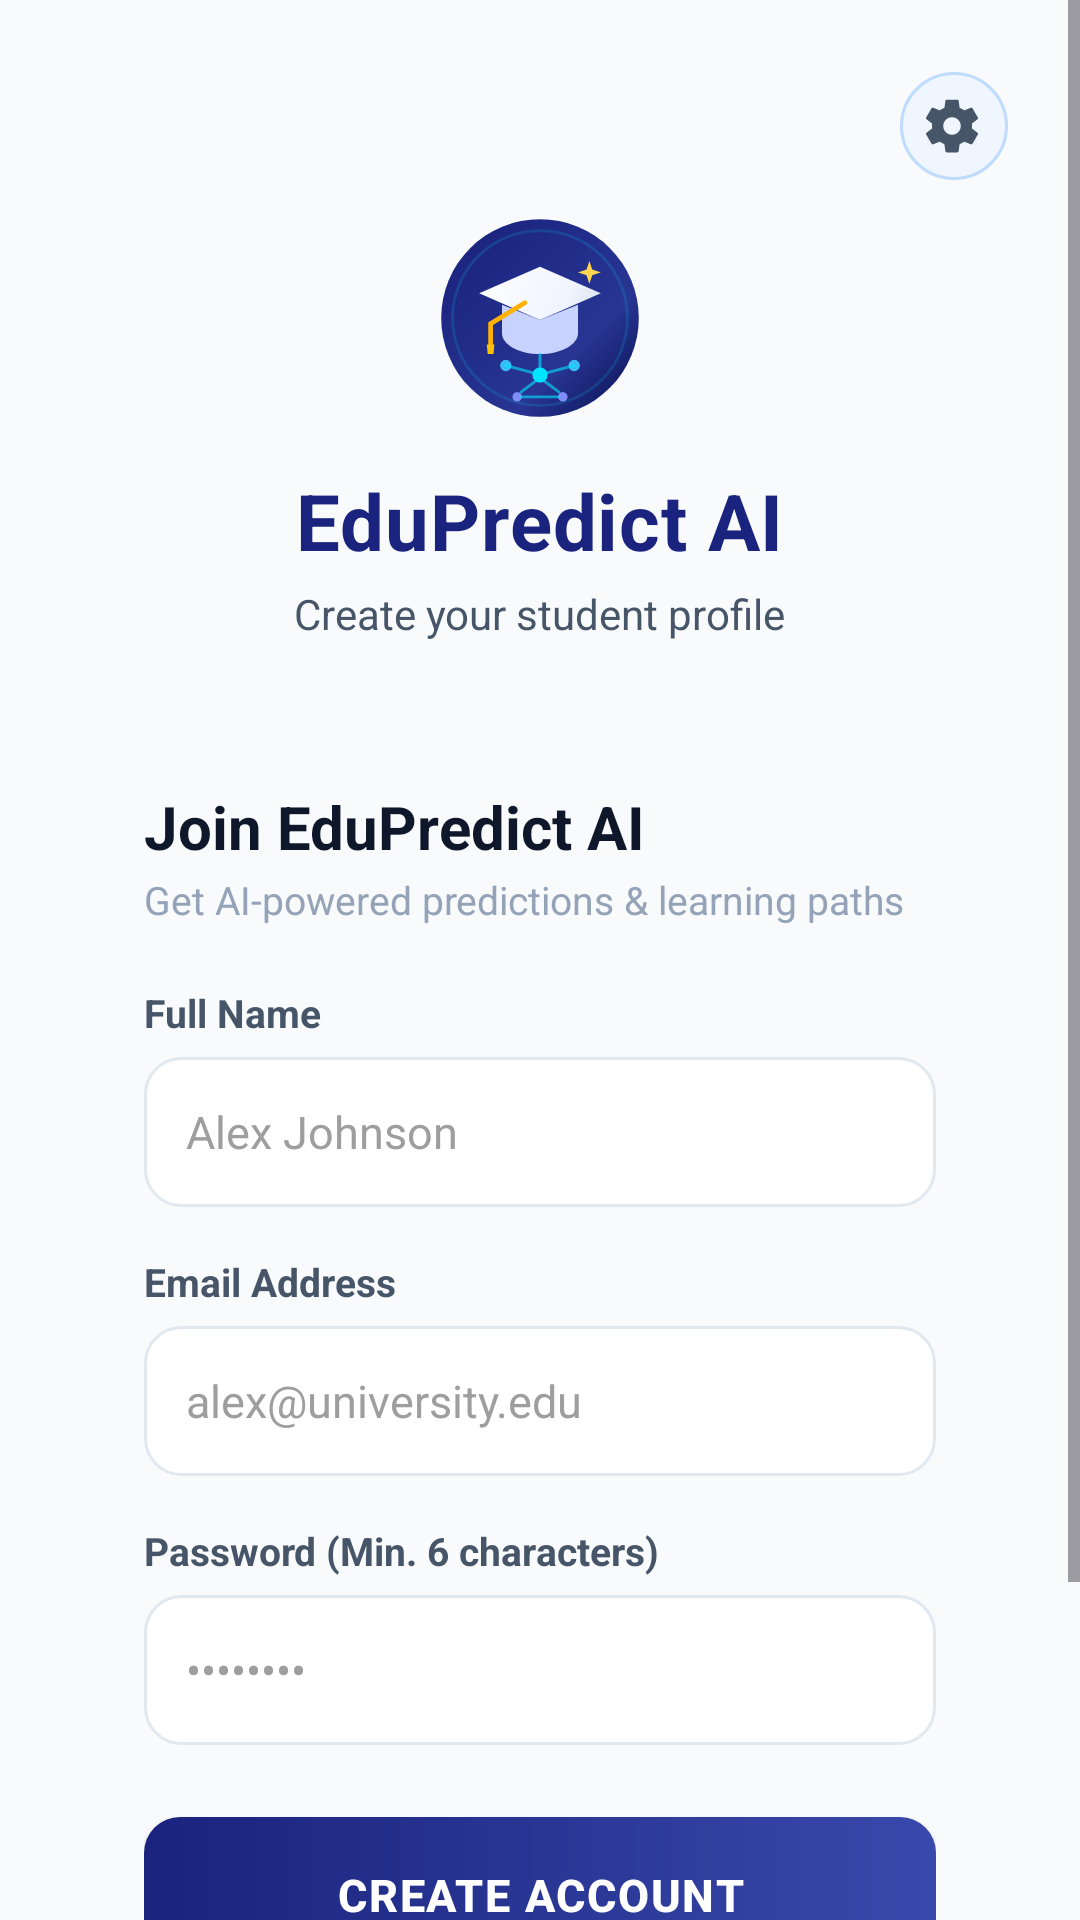

Named icons in this screenshot (1080w x 1920h) and their bounding boxes, (x1, y1, x2, y2):
Server Settings: (900, 72, 1008, 180)
